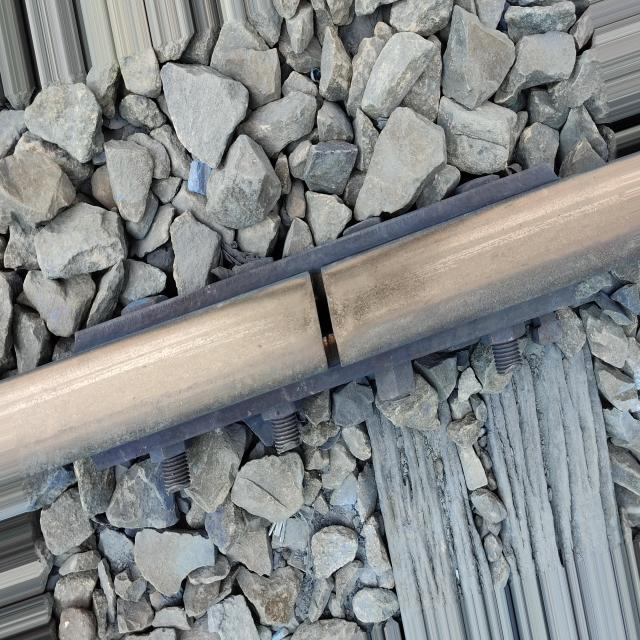crack: (286, 252, 376, 386)
